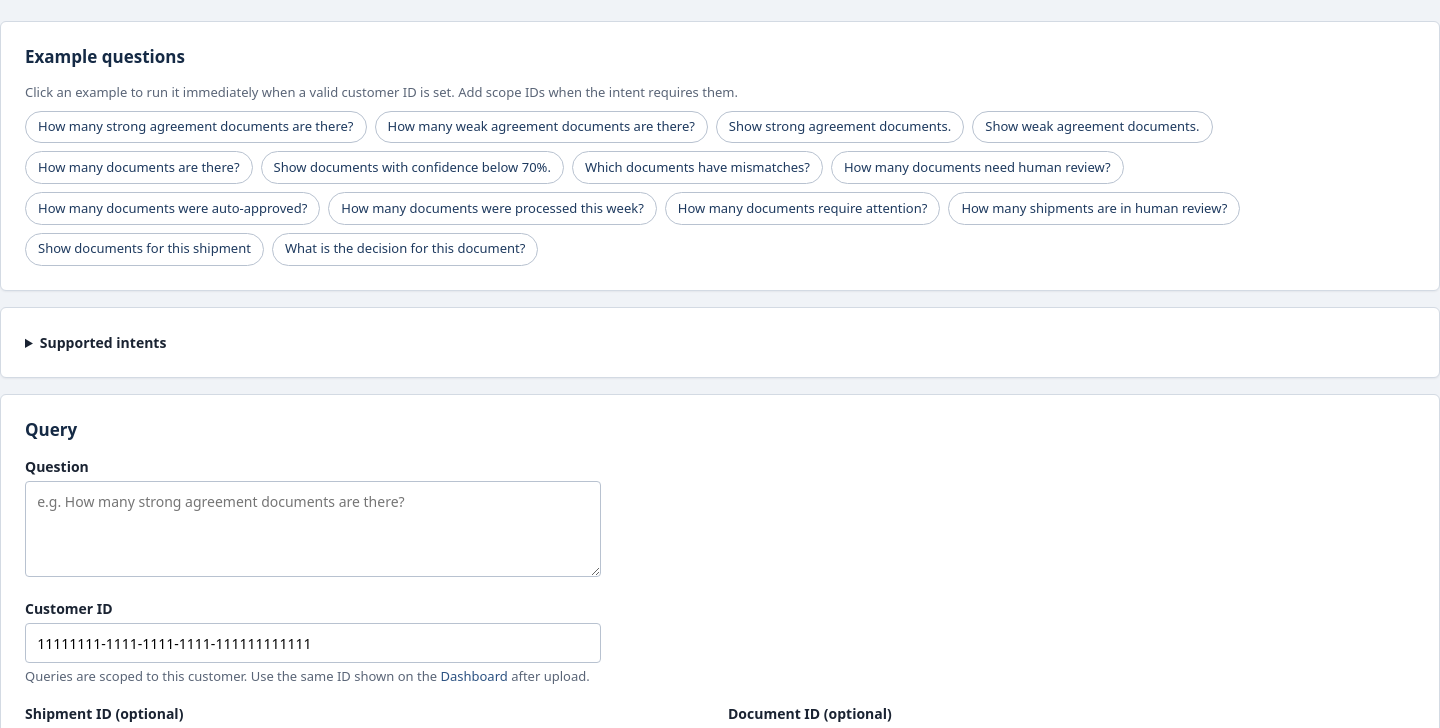
Scenario: QueryPage › renders RESULT status
In the text box labelled "Question": (313, 529) [25,481,601,577], type "List human review shipments"
(page scrolled)
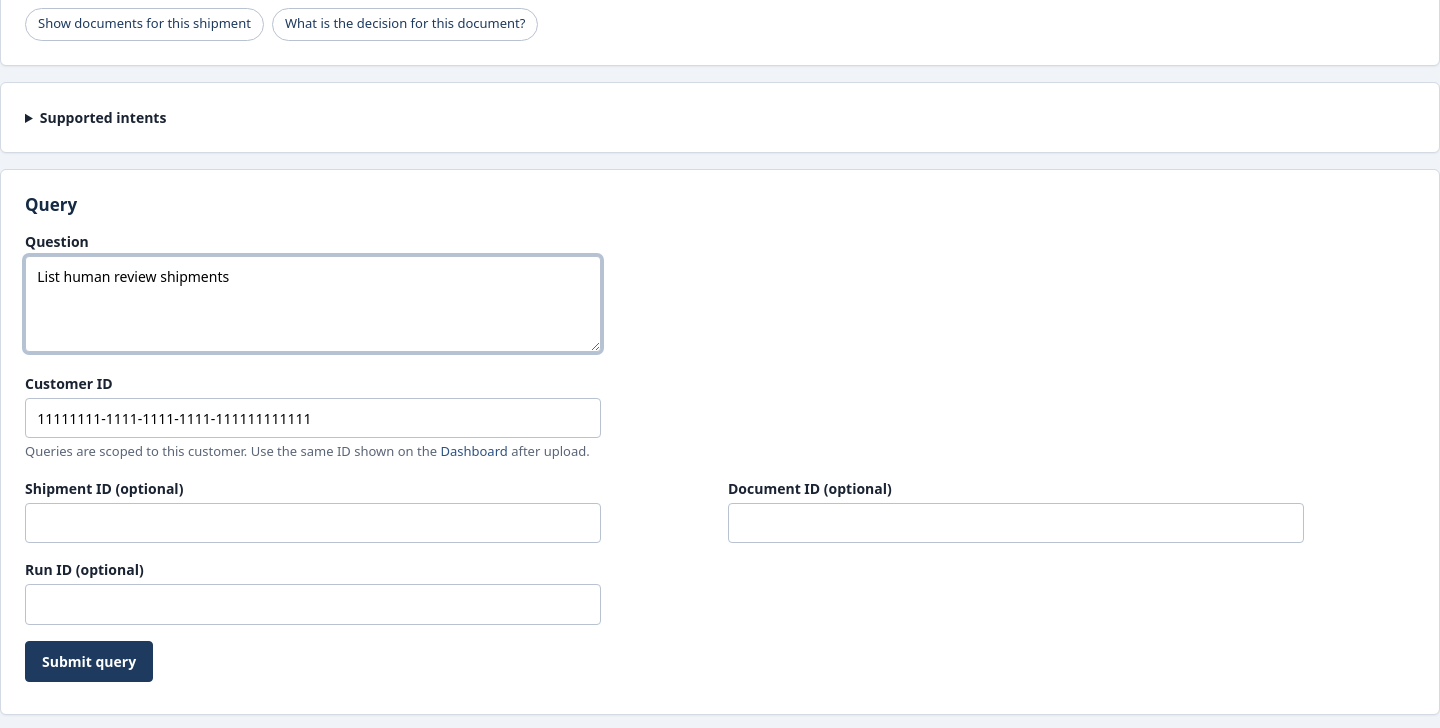
Click the button "Submit query": click(89, 661) [25,641,153,682]
(page scrolled)
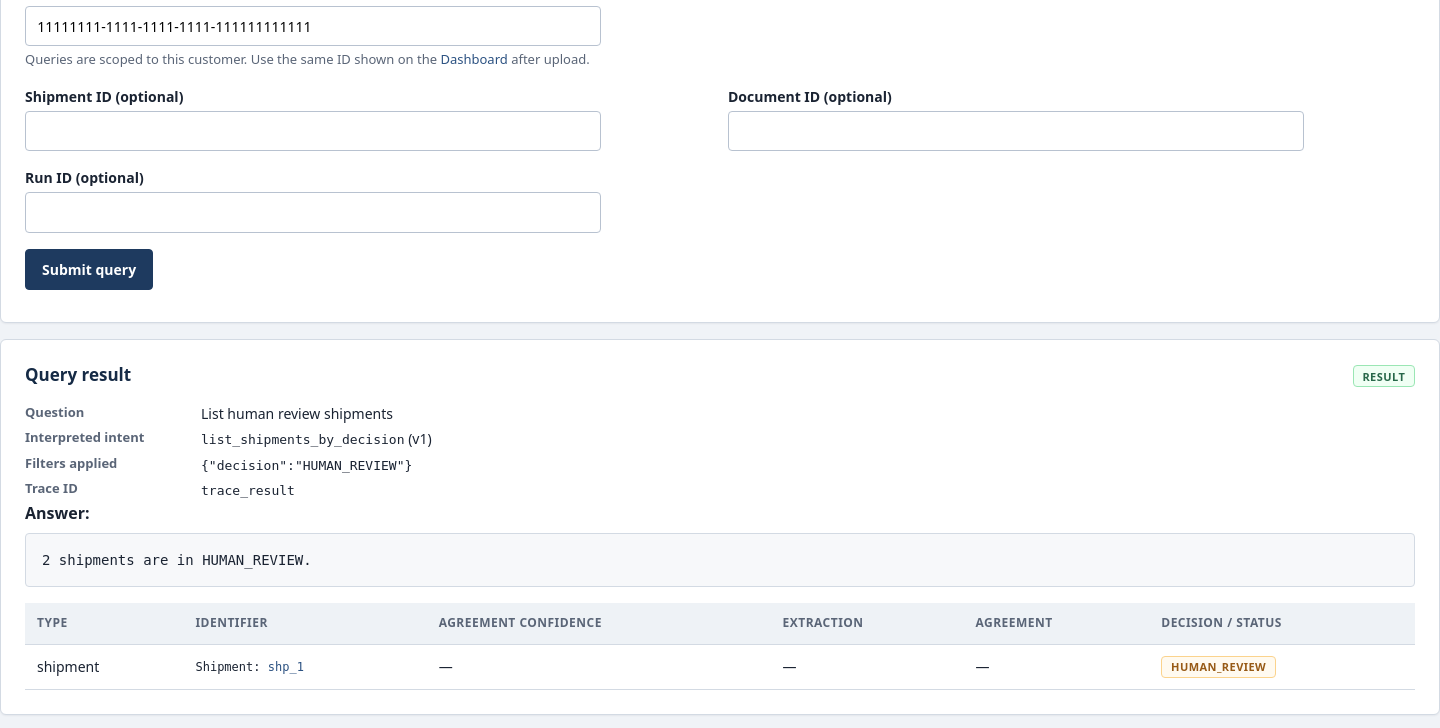
Check: the text "2 shipments are in HUMAN_REVIEW." is shown, box [25,533,1415,587]
Check: the text "RESULT" is shown, box [1353,365,1415,387]
